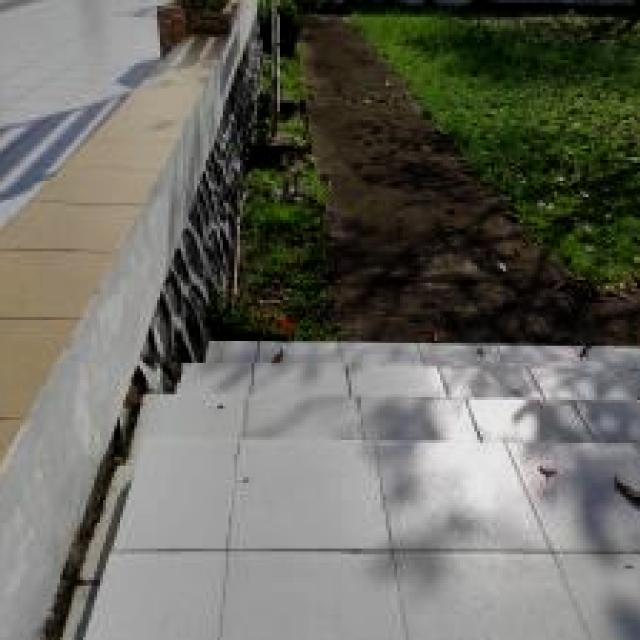downstair: (146, 281, 640, 589)
